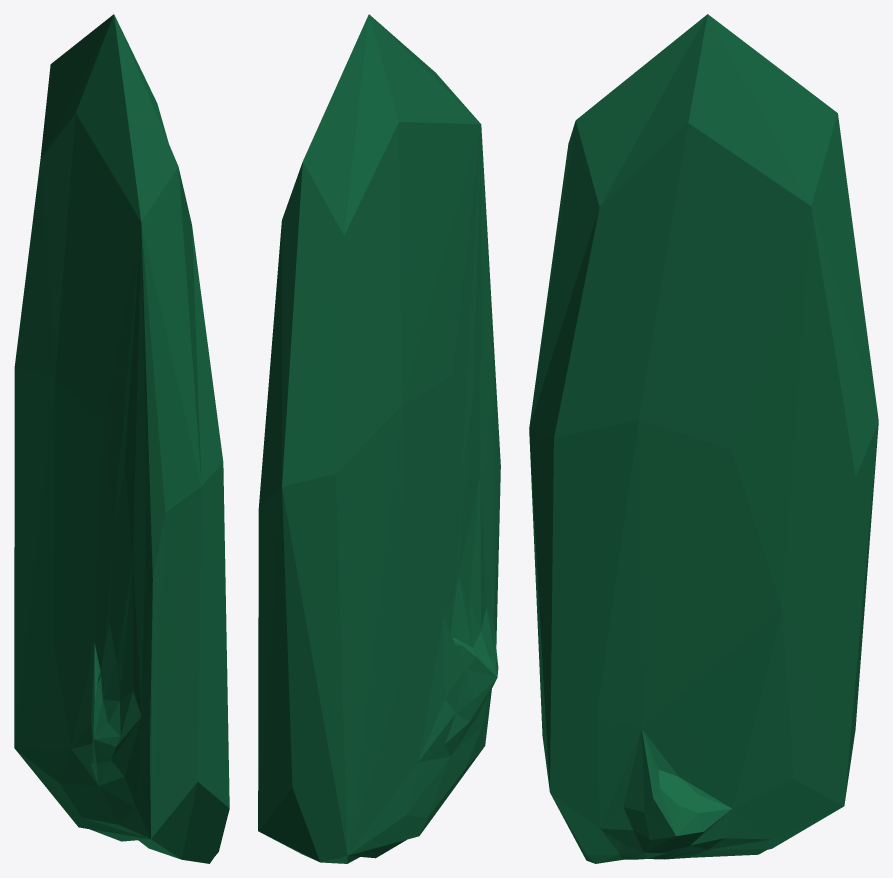
3 renders of one model, left to right at view 1: azimuth 30°, elevation 25°; view 2: azimuth 150°, elevation 25°; view 3: azimuth 270°, elevation 25°, orthographic. The views are drawn at different scales.
Visible parts, largest first — view 1: 355_Cube.1451; view 2: 355_Cube.1451; view 3: 355_Cube.1451.
Boxes of the visible parts, <box> form: 355_Cube.1451: <box>14,14,229,863</box>; 355_Cube.1451: <box>258,14,500,863</box>; 355_Cube.1451: <box>529,14,878,863</box>.
Bounding box in the file's own units: 2.35 × 12.17 × 4.66.
